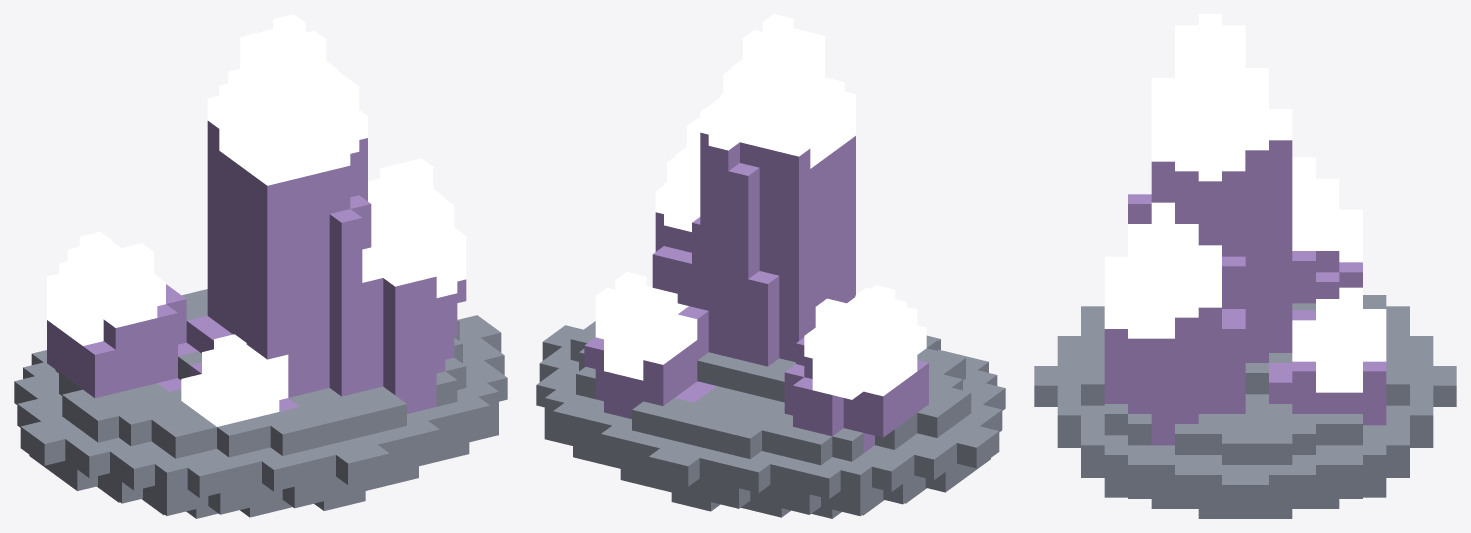
The model's file is spirit_geode.glb.
The picture shows the model from 3 angles, left to right: view 1: azimuth 30°, elevation 25°; view 2: azimuth 150°, elevation 25°; view 3: azimuth 270°, elevation 25°; orthographic projection. The views are drawn at different scales.
Size of the model in its own units: 0.9167 by 0.8333 by 0.75.
